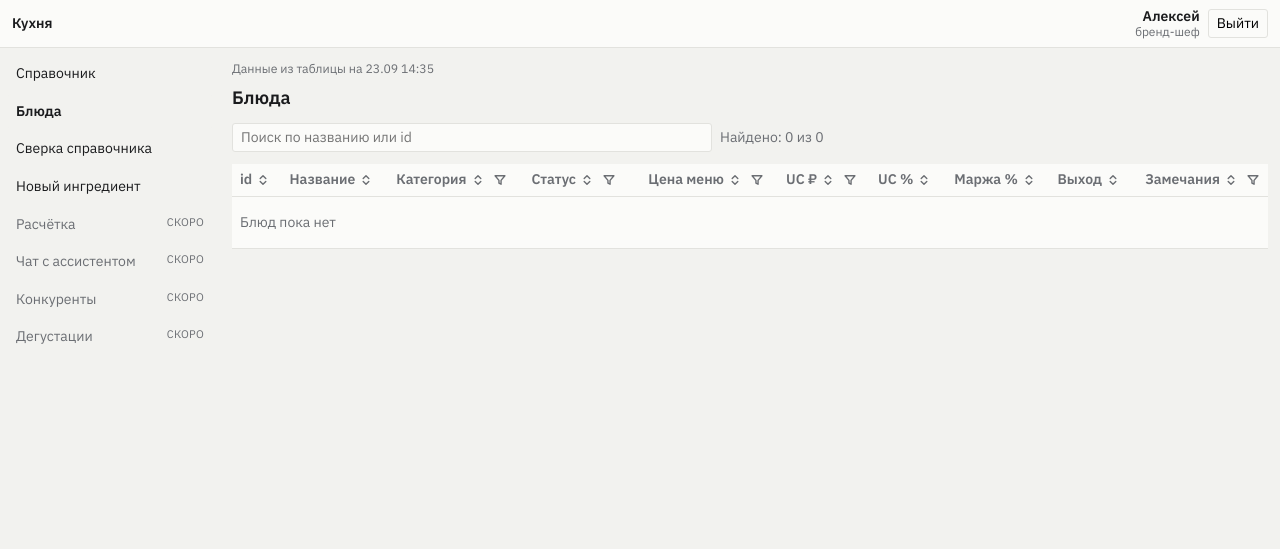
Test: обычный успешный выход — без предупреждения
Expected: the text "Алексей" is shown, [1143,8,1200,25]
Click the button "Выйти" at (1238, 24), box [1208,9,1268,38]
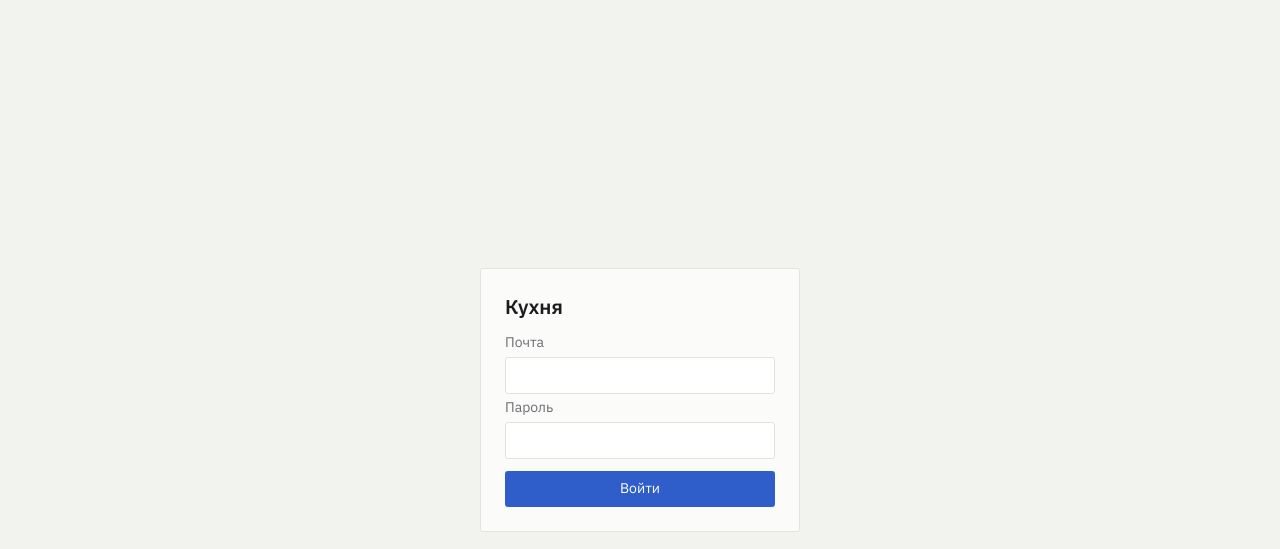
Expected: the field labelled "Почта" is shown, [505,357,775,394]
Expected: the column heading "Повторить выход" is gone
